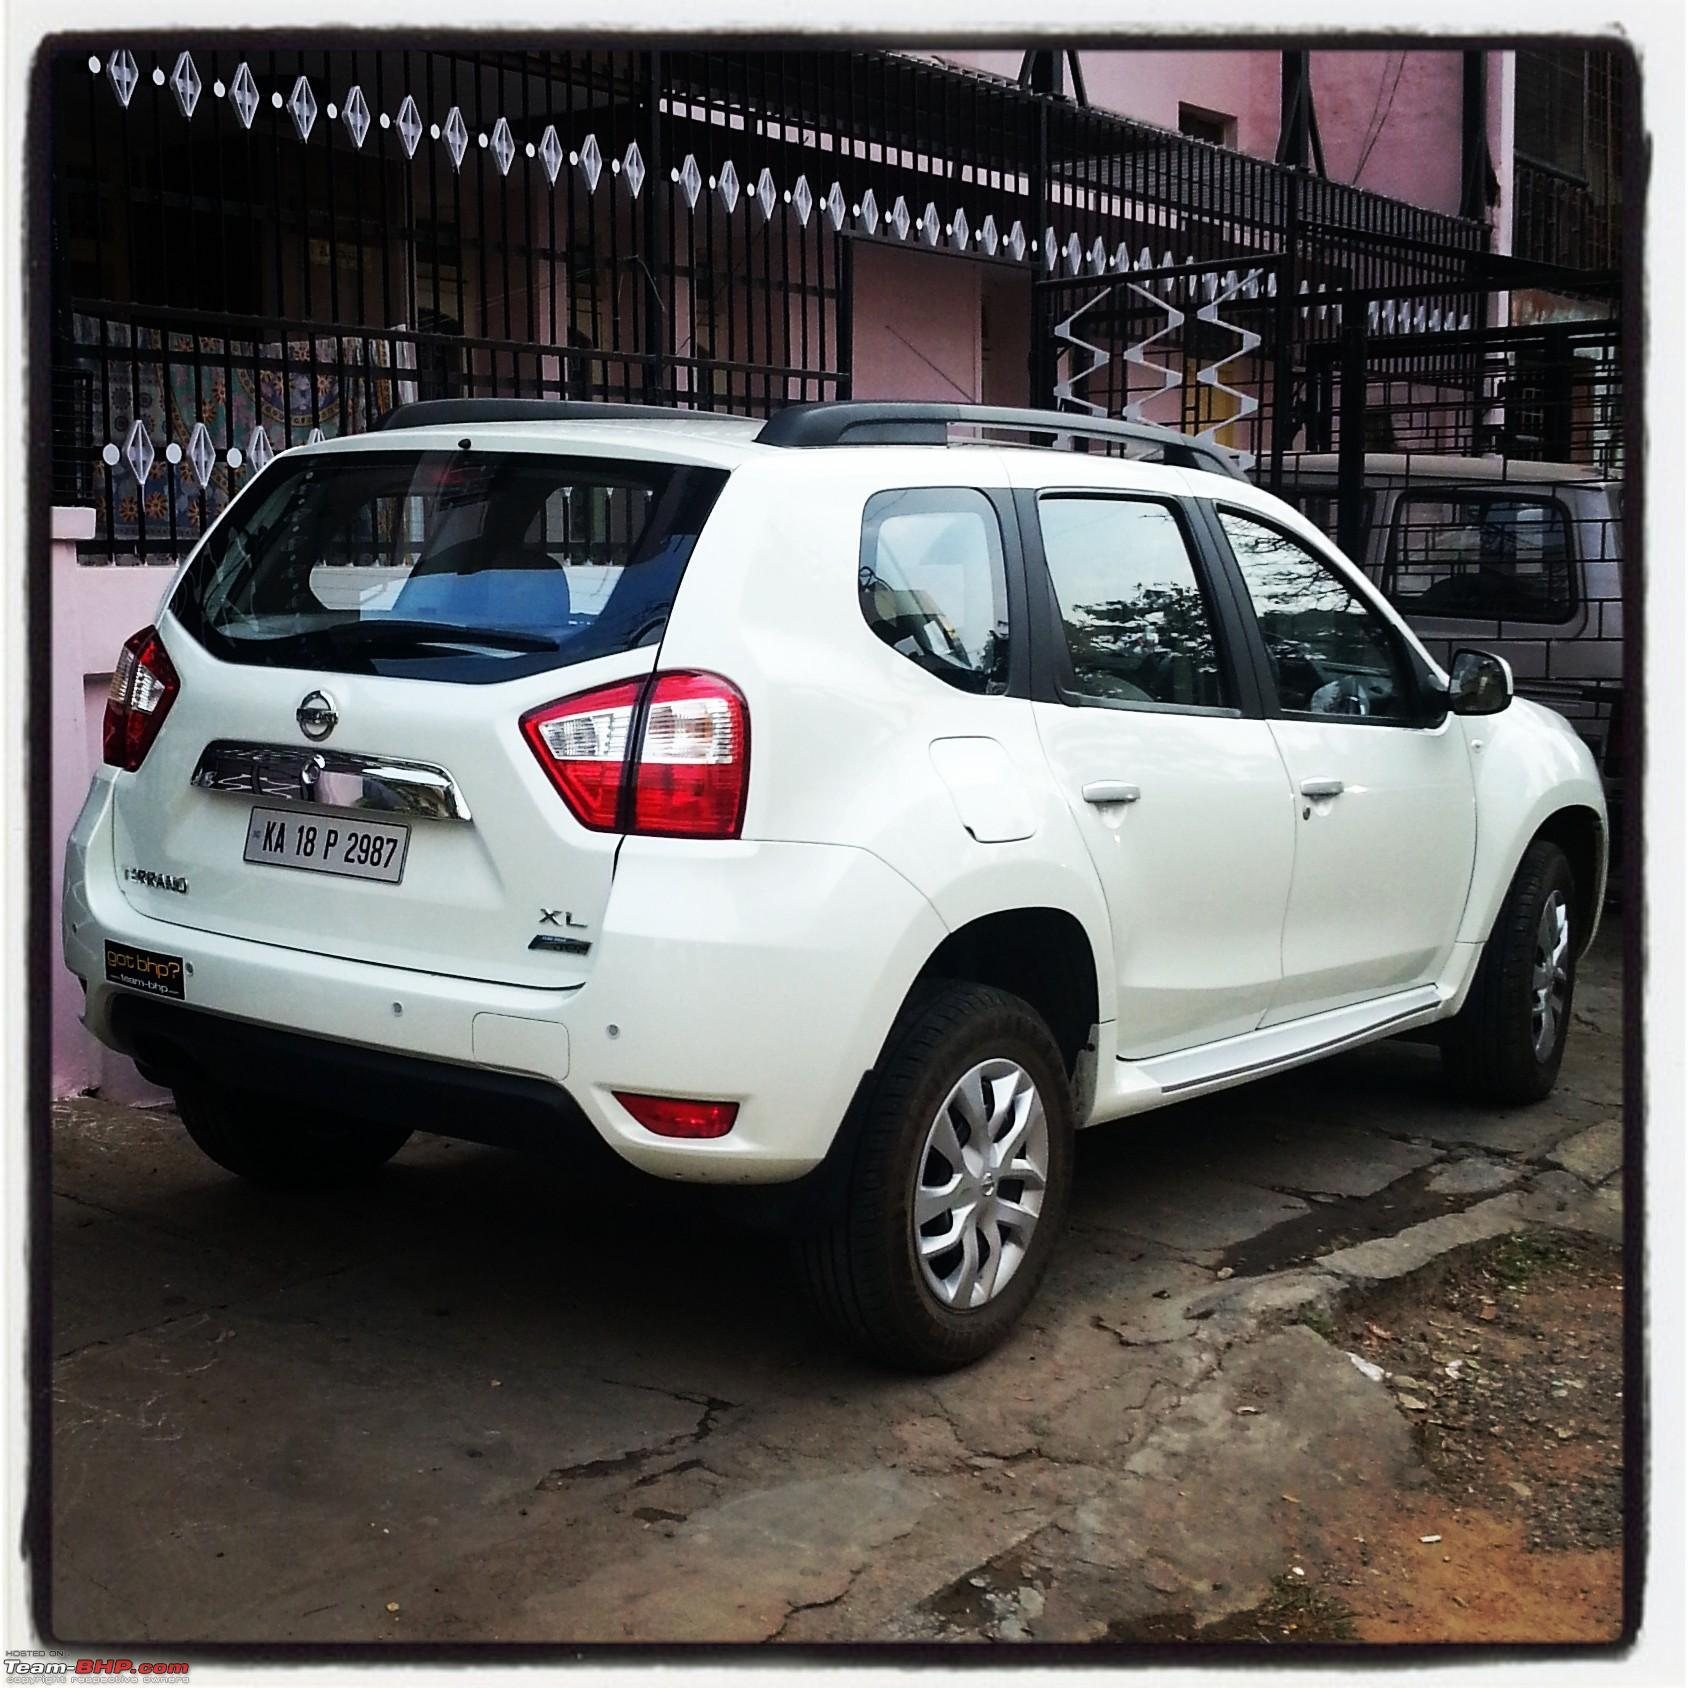License-Plate: (228, 771, 437, 896)
